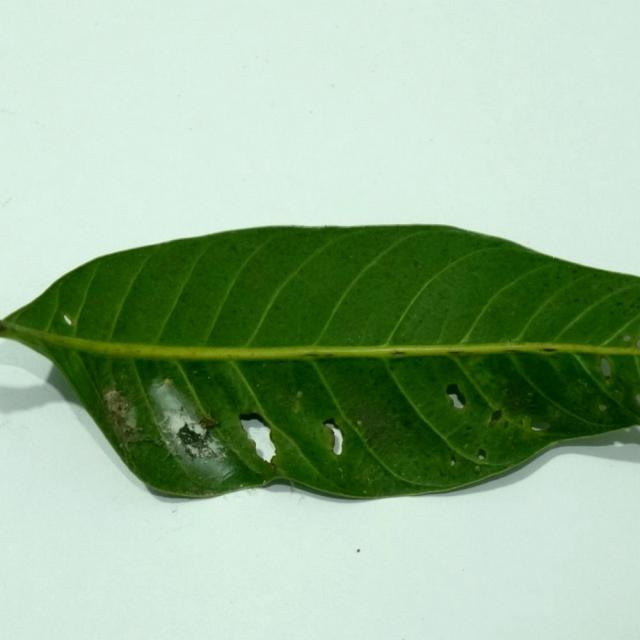Anthracnose: (237, 414, 278, 463), (316, 415, 357, 461), (177, 421, 220, 461), (321, 417, 344, 456), (241, 417, 271, 437), (445, 383, 466, 408), (237, 411, 264, 423), (599, 357, 612, 376), (531, 421, 551, 431), (476, 447, 488, 461), (323, 417, 337, 429), (63, 314, 73, 326), (449, 453, 457, 467), (447, 395, 456, 407), (540, 348, 559, 353), (598, 404, 607, 411)
Mango: (0, 226, 639, 504)
